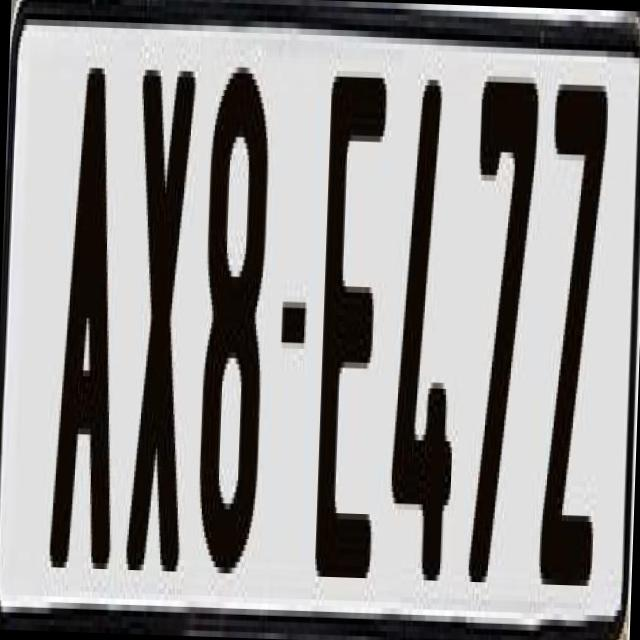4: (386, 66, 469, 598)
7: (464, 64, 539, 566)
8: (193, 49, 272, 556)
A: (48, 66, 132, 598)
E: (310, 75, 392, 596)
X: (122, 69, 198, 572)
Z: (536, 66, 610, 574)
